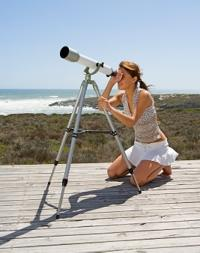person: (98, 61, 175, 189)
